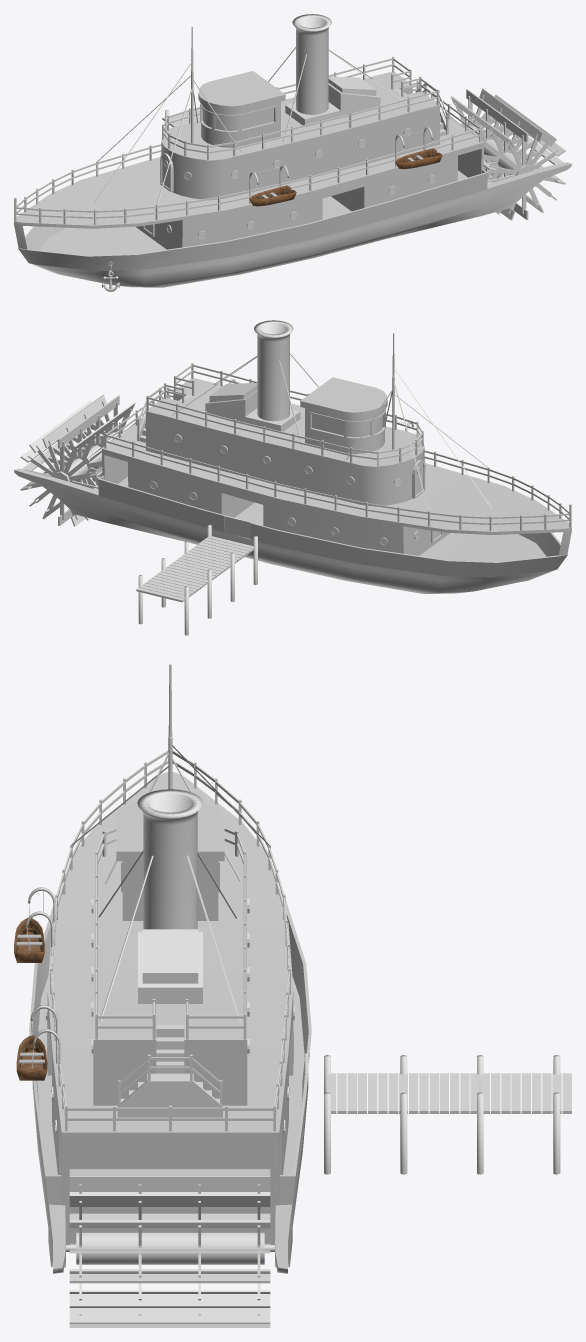
Rendered from ship.fbx.
3 views of the same model, one above another, from view 1: azimuth 30°, elevation 25°; view 2: azimuth 150°, elevation 25°; view 3: azimuth 270°, elevation 25° (orthographic). The views are drawn at different scales.
Visible parts, largest first — view 1: Cube.002, Cube.003, Cube, Cube.001, Cylinder.001, Cube.004, Cube.009, Cylinder, Cube.011, Cube.021, SM_Wooden_Boat_1_JFG.001, SM_Wooden_Boat_1_JFG (+2 smaller); view 2: Cube.002, Cube.003, Cube, Cube.001, Cylinder.001, Cube.004, Cube.009, Cube.007, Cylinder, Cube.011, Cube.021, Cylinder.011 (+2 smaller); view 3: Cube.002, Cylinder.001, Cube.003, Cube, Cube.007, Cylinder, Cube.009, Cube.004, Cube.021, Cube.001, Cylinder.011, Cube.011 (+5 smaller).
Part boxes in pixels (<box>): Cube.002: <box>14,112,483,249</box>; Cube.003: <box>161,71,439,200</box>; Cube: <box>30,116,571,287</box>; Cube.001: <box>18,169,487,271</box>; Cylinder.001: <box>442,88,565,220</box>; Cube.004: <box>198,71,285,147</box>; Cube.009: <box>14,81,481,224</box>; Cylinder: <box>292,14,331,114</box>; Cube.011: <box>162,56,438,159</box>; Cube.021: <box>285,76,380,126</box>; SM_Wooden_Boat_1_JFG.001: <box>249,185,296,206</box>; SM_Wooden_Boat_1_JFG: <box>395,148,442,168</box>; Cube.002: <box>102,418,571,555</box>; Cube.003: <box>146,378,424,506</box>; Cube: <box>14,422,554,593</box>; Cube.001: <box>98,475,567,577</box>; Cylinder.001: <box>20,395,143,526</box>; Cube.004: <box>300,377,387,454</box>; Cube.009: <box>104,387,571,531</box>; Cube.007: <box>136,536,254,602</box>; Cylinder: <box>254,320,293,421</box>; Cube.011: <box>146,363,423,466</box>; Cube.021: <box>205,382,300,431</box>; Cylinder.011: <box>138,524,257,635</box>; Cube.002: <box>47,772,293,1205</box>; Cylinder.001: <box>66,1169,274,1327</box>; Cube.003: <box>93,848,247,1105</box>; Cube: <box>32,977,308,1273</box>; Cube.007: <box>327,1073,571,1113</box>; Cylinder: <box>137,789,203,929</box>; Cube.009: <box>50,750,290,1131</box>; Cube.004: <box>116,802,224,920</box>; Cube.021: <box>138,929,202,1003</box>; Cube.001: <box>29,890,311,1205</box>; Cylinder.011: <box>324,1055,560,1174</box>; Cube.011: <box>95,828,246,1039</box>.
Bounding box in the file's own units: 649 × 290 × 359.
